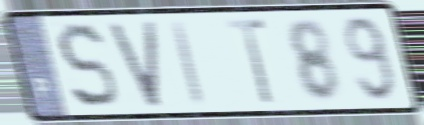8: (286, 15, 344, 106)
9: (341, 13, 400, 106)
I: (168, 17, 208, 109)
S: (54, 19, 121, 112)
T: (223, 16, 278, 108)
V: (105, 17, 165, 111)
